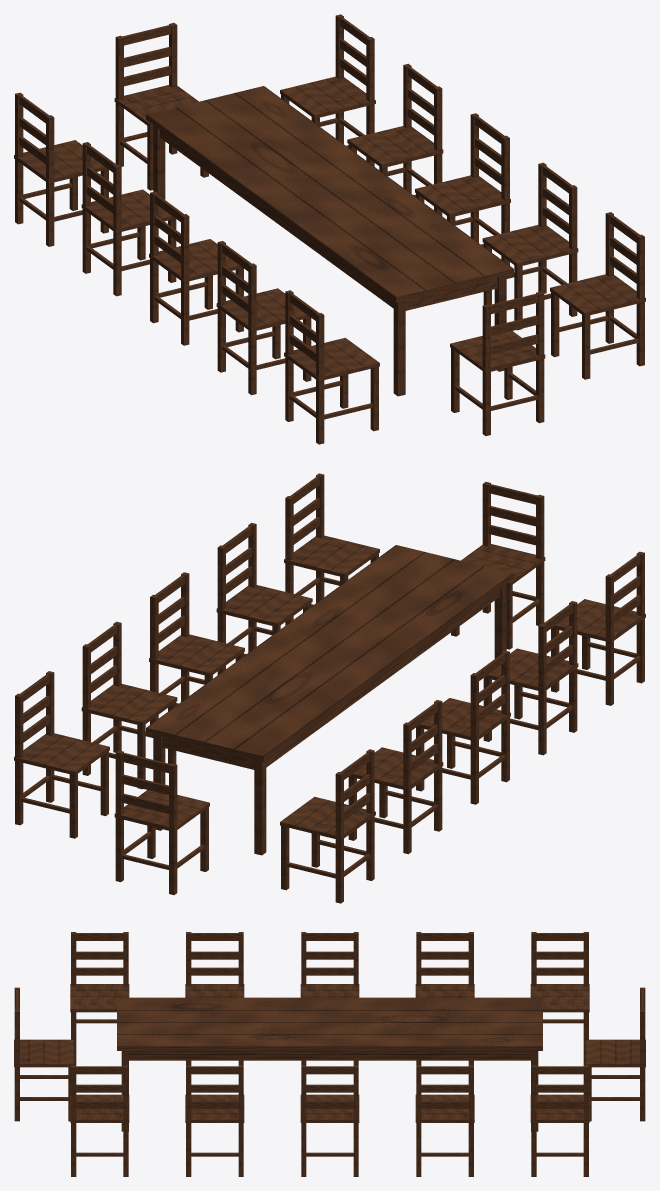
Rendered from dining_large.obj.
3 views of the same model, one above another, from view 1: azimuth 30°, elevation 25°; view 2: azimuth 150°, elevation 25°; view 3: azimuth 270°, elevation 25° (orthographic). The views are drawn at different scales.
Visible parts, largest first — view 1: material_5; view 2: material_5; view 3: material_5.
Boxes of the visible parts, x1,y1,x2,y2 form: material_5: (14, 14, 645, 444); material_5: (14, 473, 645, 903); material_5: (14, 932, 645, 1176).
Size of the model in its own units: 75.12 by 28.16 by 147.
2 materials, 2 textured.
